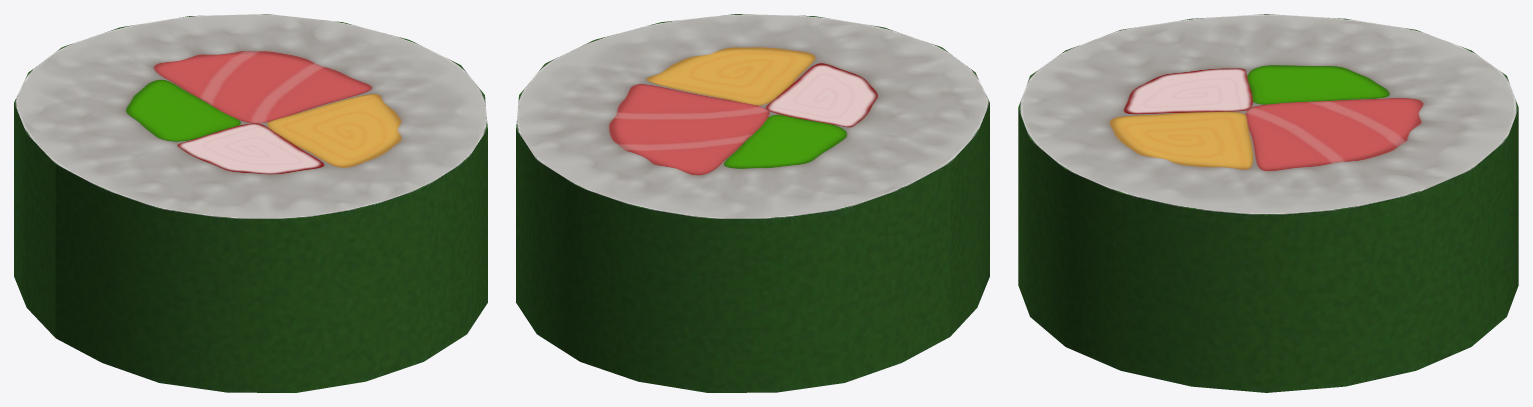
File: California Roll.fbx
3 views of the same model, side by side, from view 1: azimuth 30°, elevation 25°; view 2: azimuth 150°, elevation 25°; view 3: azimuth 270°, elevation 25° (orthographic).
Visible parts, largest first — view 1: CaliforniaRoll_1; view 2: CaliforniaRoll_1; view 3: CaliforniaRoll_1.
Part boxes in pixels (x1,y1,x2,y2): CaliforniaRoll_1: (14,14,487,392); CaliforniaRoll_1: (516,14,989,392); CaliforniaRoll_1: (1018,14,1518,392).
Size of the model in its own units: 20.61 by 8.48 by 21.65.
